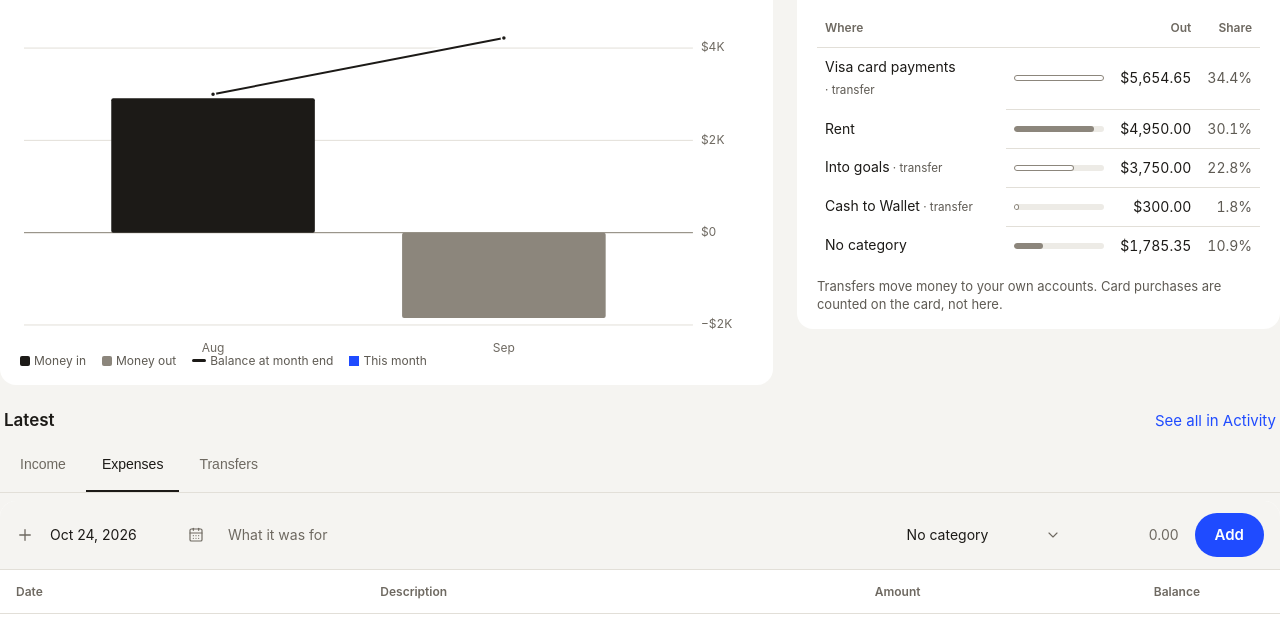
Test case: AccountDetailPage › explains a transfer with no other account instead of saving it
(page scrolled)
Step 1. Click the tab "Transfers" → [229, 470], box [183,448,274,492]
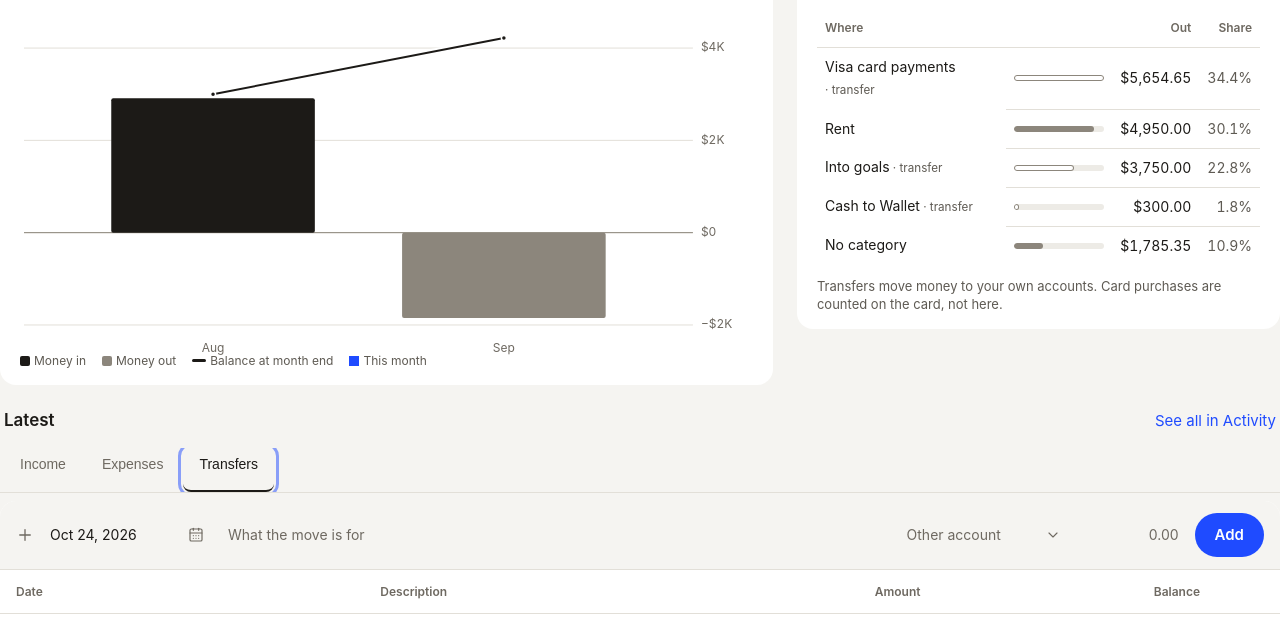
Step 2. Type "400" into the field named "Amount" → [1132, 535], box [1077,517,1187,553]
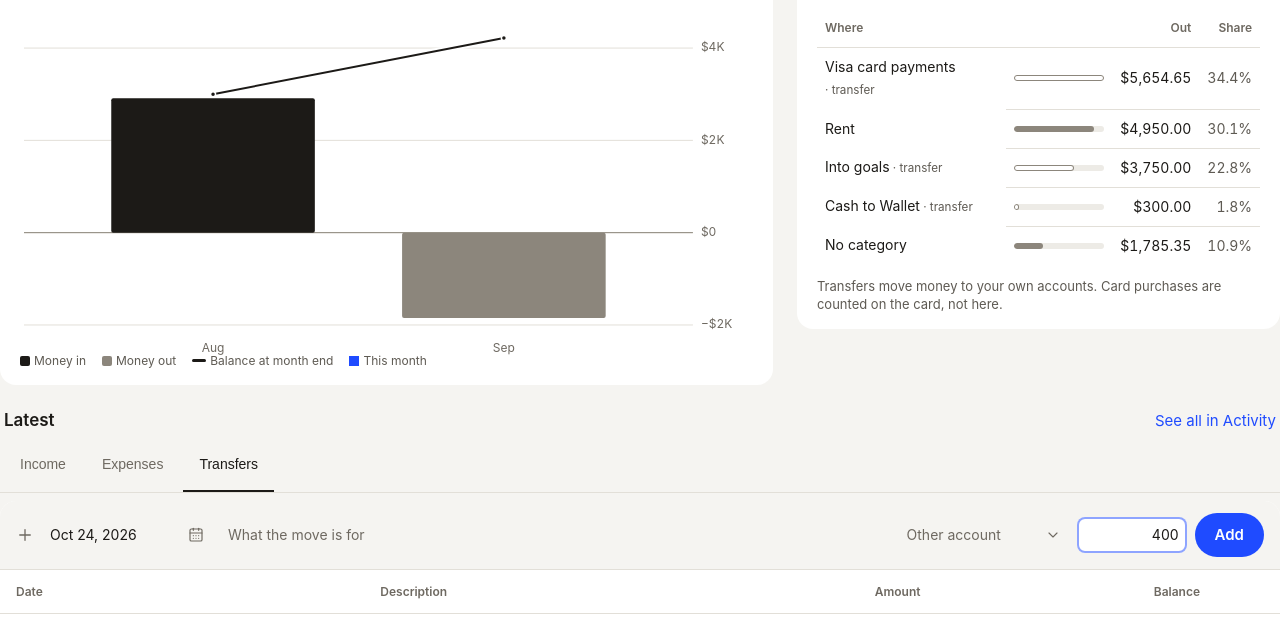
Step 3. Click the button "Add" → [1229, 535], box [1195,513,1264,557]
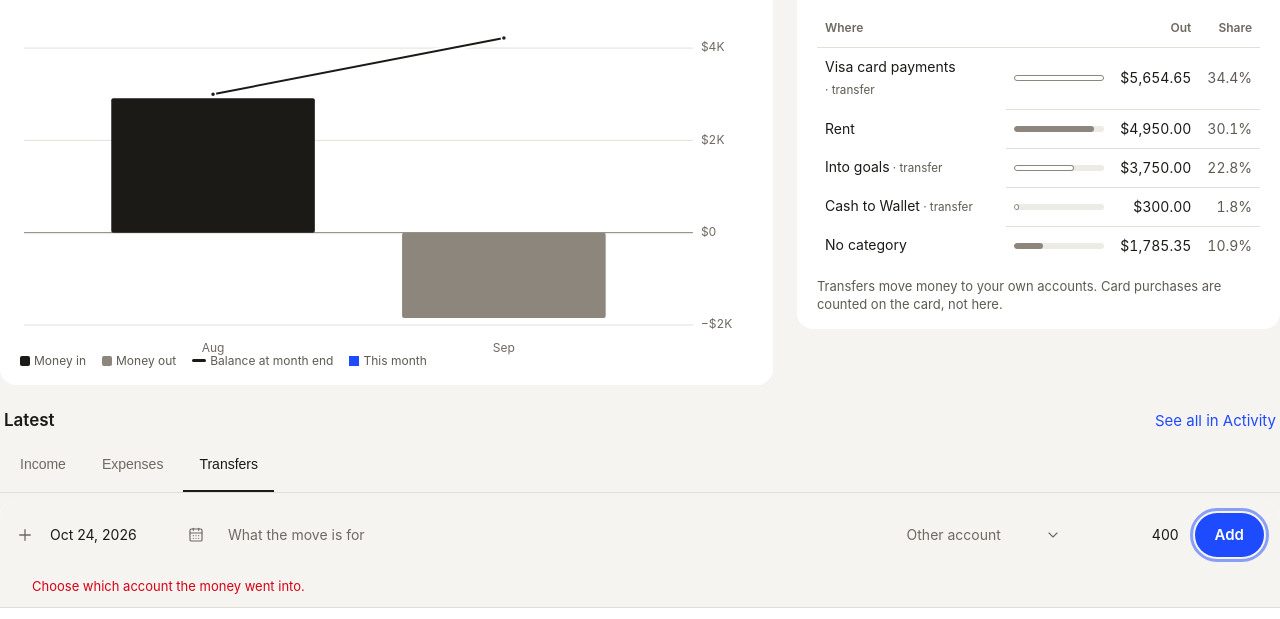
Expected: the text "Choose which account the money went into." is shown, [32,578,305,594]
